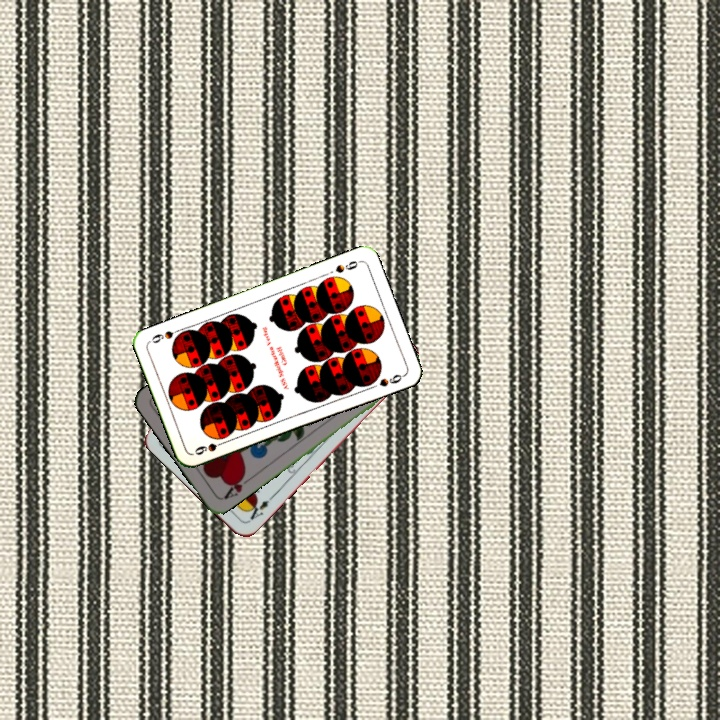EA: (242, 492, 276, 525)
HA: (220, 469, 254, 502)
S9: (190, 436, 230, 458), (331, 256, 362, 276)
